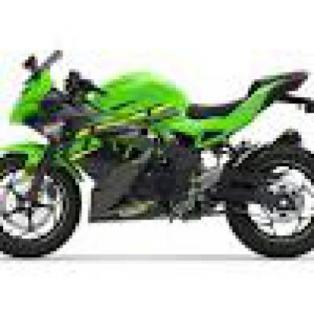Motocicleta: (0, 41, 311, 267)
